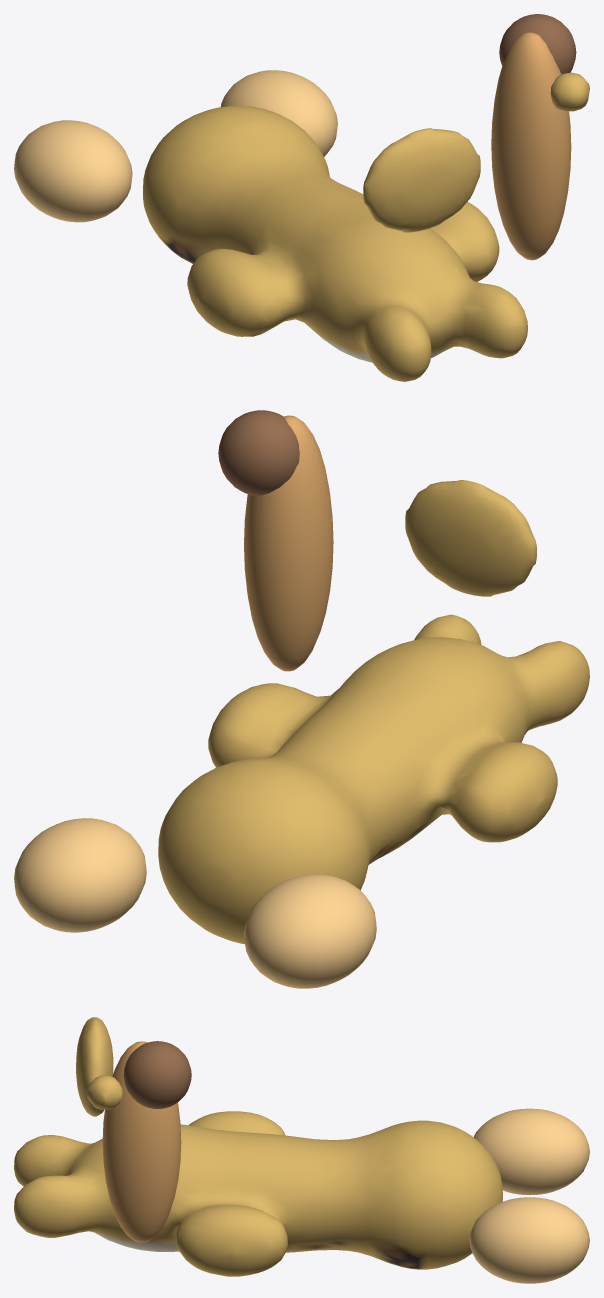
The model's file is leopard.glb.
3 renders of one model, top to bottom at view 1: azimuth 30°, elevation 25°; view 2: azimuth 150°, elevation 25°; view 3: azimuth 270°, elevation 25°, orthographic. The views are drawn at different scales.
Parts seen in each view (by area): view 1: leopard_surface, tail, ear, ear.001, tail_tip; view 2: leopard_surface, tail, ear.001, ear, tail_tip; view 3: leopard_surface, tail, ear.001, ear, tail_tip.
Boxes of the visible parts, <box> form: leopard_surface: <box>143,72,589,381</box>; tail: <box>491,32,571,260</box>; ear: <box>14,120,132,222</box>; ear.001: <box>220,70,337,156</box>; tail_tip: <box>499,14,576,74</box>; leopard_surface: <box>158,480,589,944</box>; tail: <box>244,415,333,671</box>; ear.001: <box>14,818,146,932</box>; ear: <box>244,874,376,988</box>; tail_tip: <box>218,410,299,495</box>; leopard_surface: <box>14,1017,502,1276</box>; tail: <box>102,1041,181,1242</box>; ear.001: <box>469,1197,589,1283</box>; ear: <box>473,1108,589,1195</box>; tail_tip: <box>123,1041,191,1108</box>.
Bounding box in the file's own units: 1.31 × 1.18 × 2.2.
